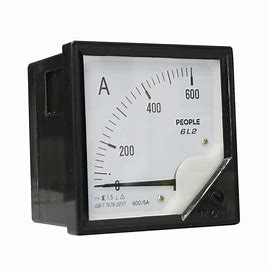pointer: (73, 46, 232, 228)
